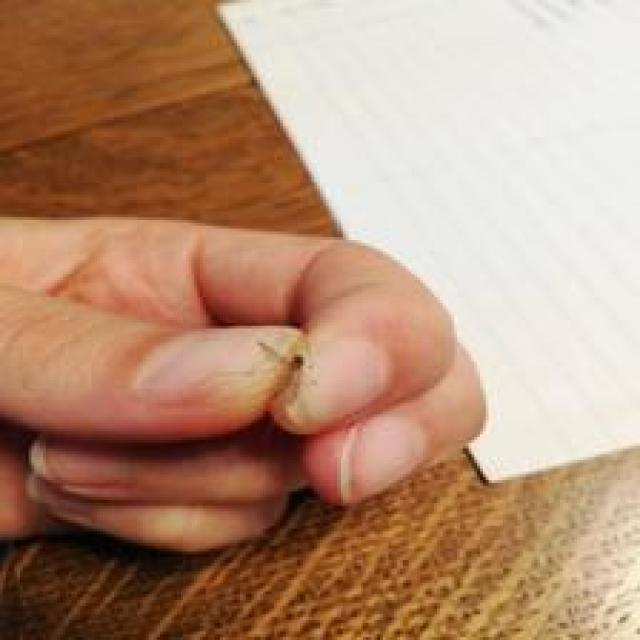Culex: (253, 329, 313, 417)
